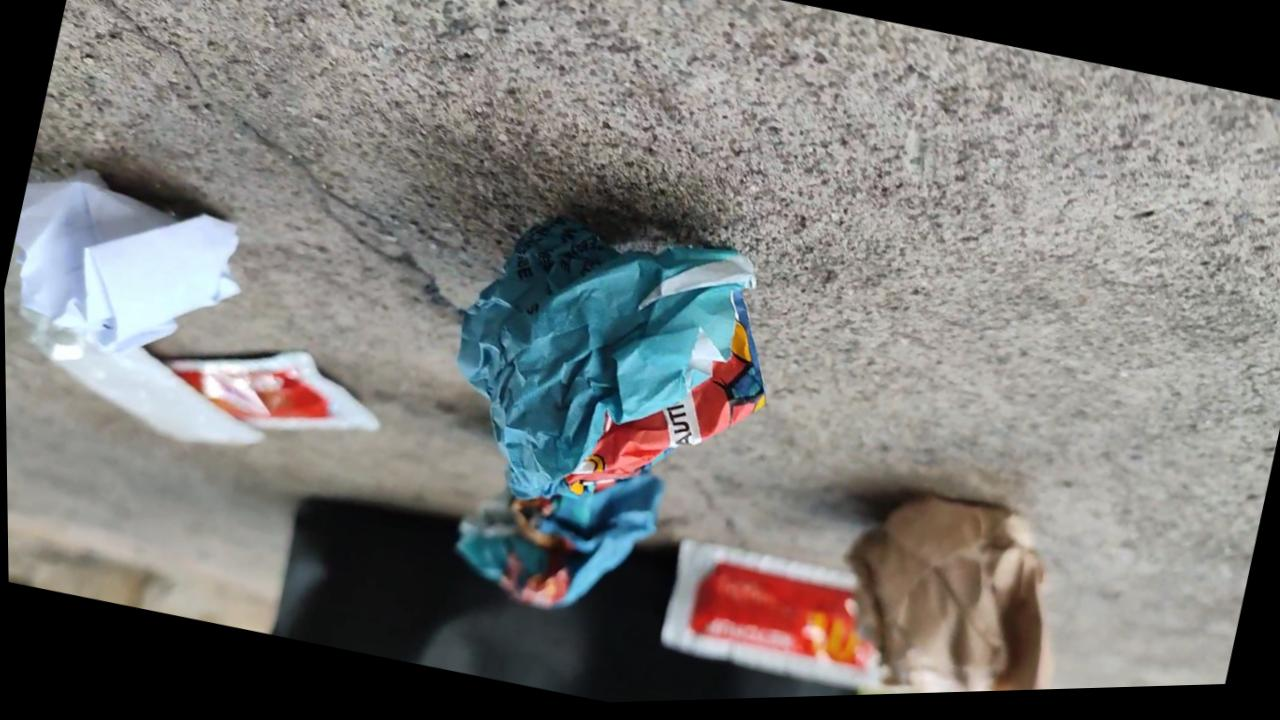paper: (399, 171, 814, 561), (809, 462, 1125, 696), (2, 124, 263, 392), (420, 411, 674, 672)
